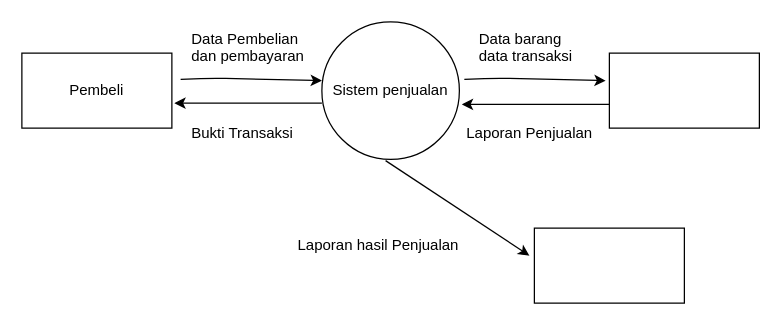
Image size: 781x325. Some labels were removed from this diagram. Each missing label, with the centre of its shape:
Pemilik: the point at 608,265
Penjual: the point at 683,90
